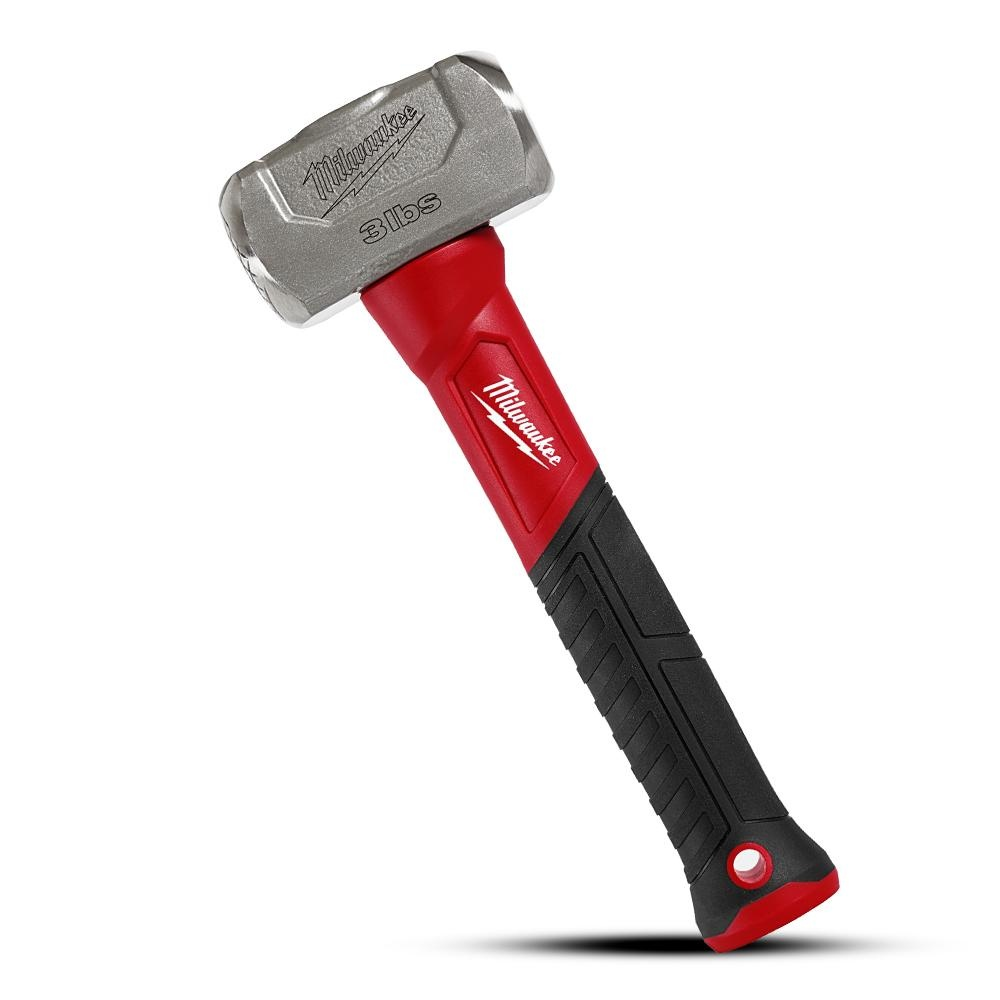hammer: (217, 50, 847, 955)
